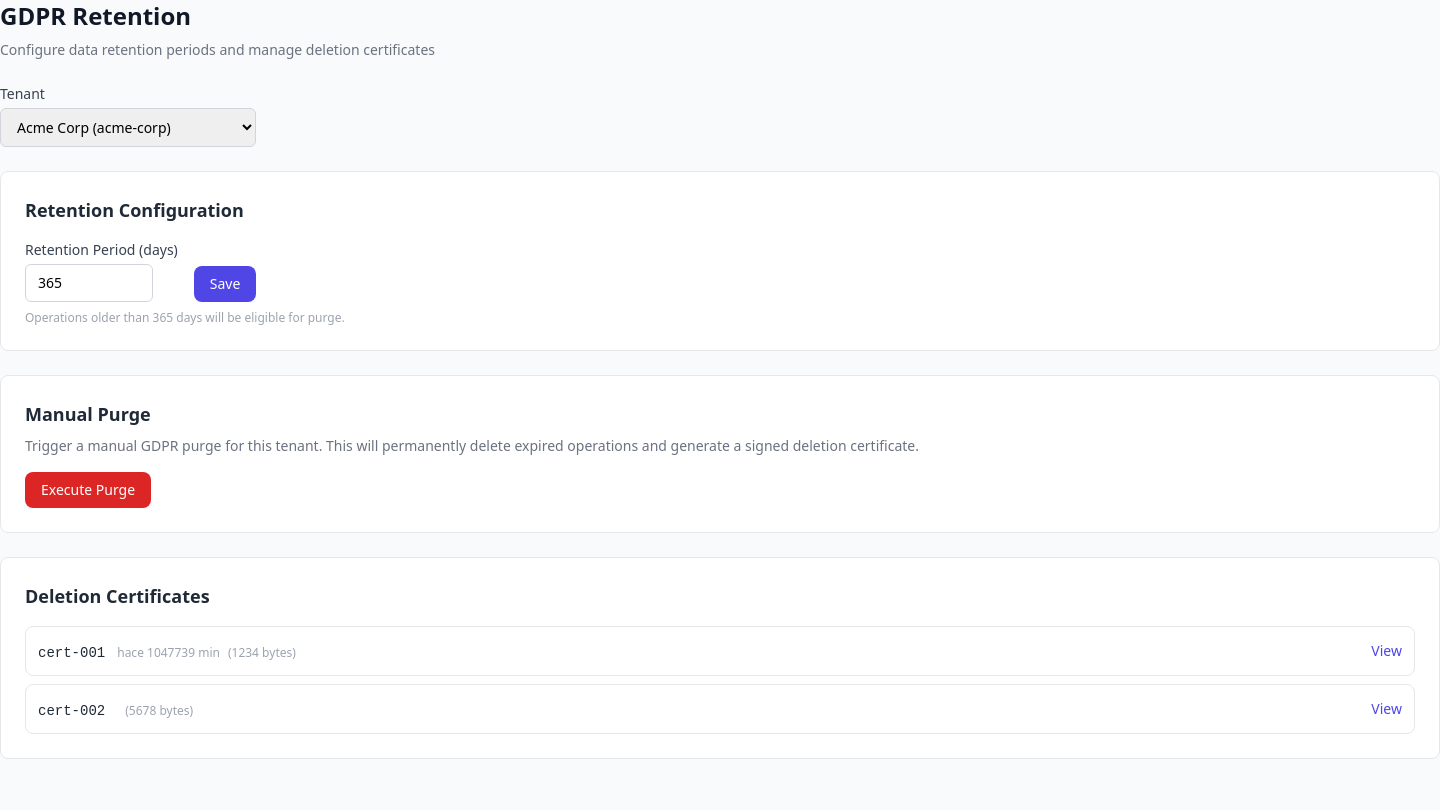
Test: RetentionPage › views certificate detail
Check: the text "cert-001" is shown, box [38,645,105,661]
Click the button "View" in the row of "1234" at x=1387, y=651, box [1371,641,1402,661]
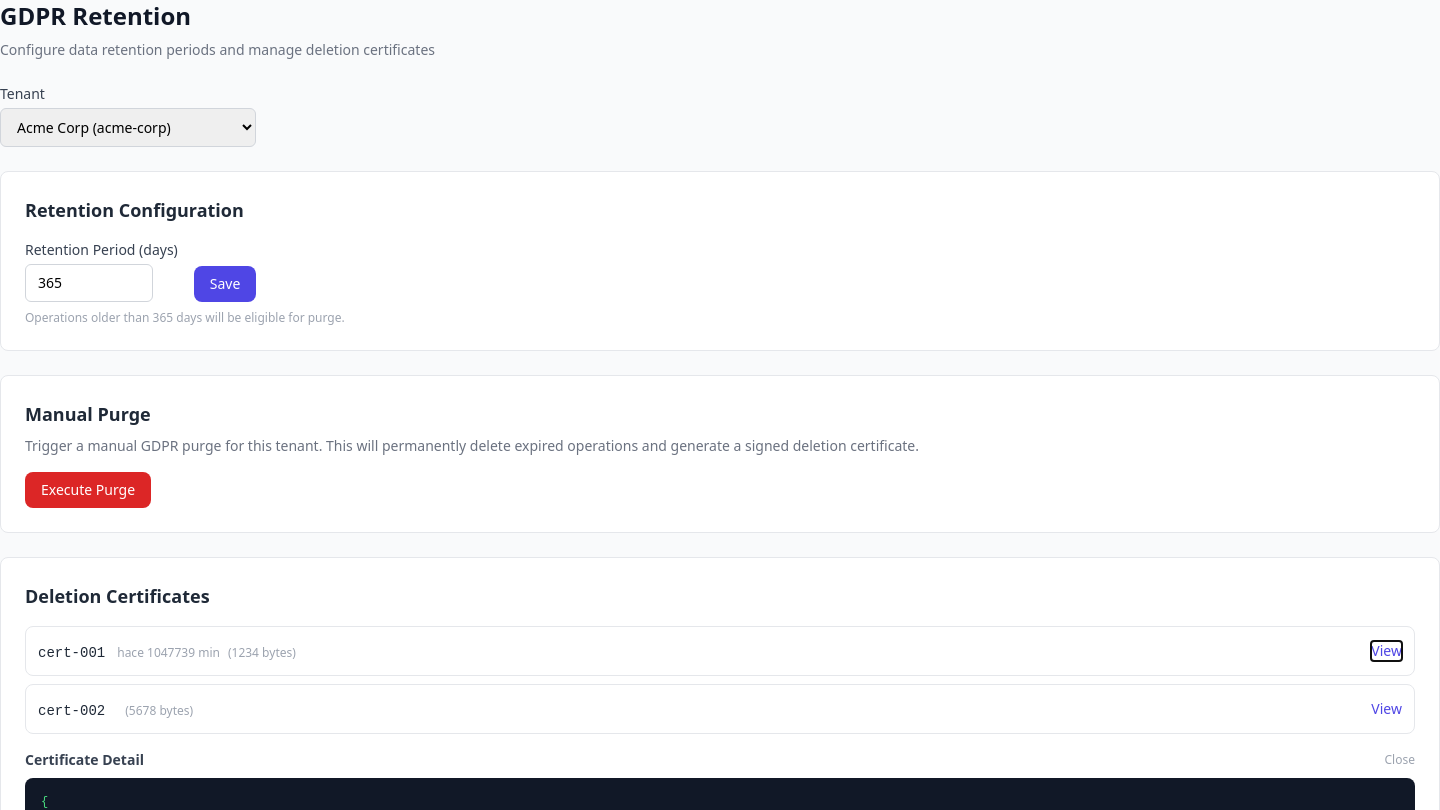
Check: the heading "Certificate Detail" is shown, box [25,750,144,770]
